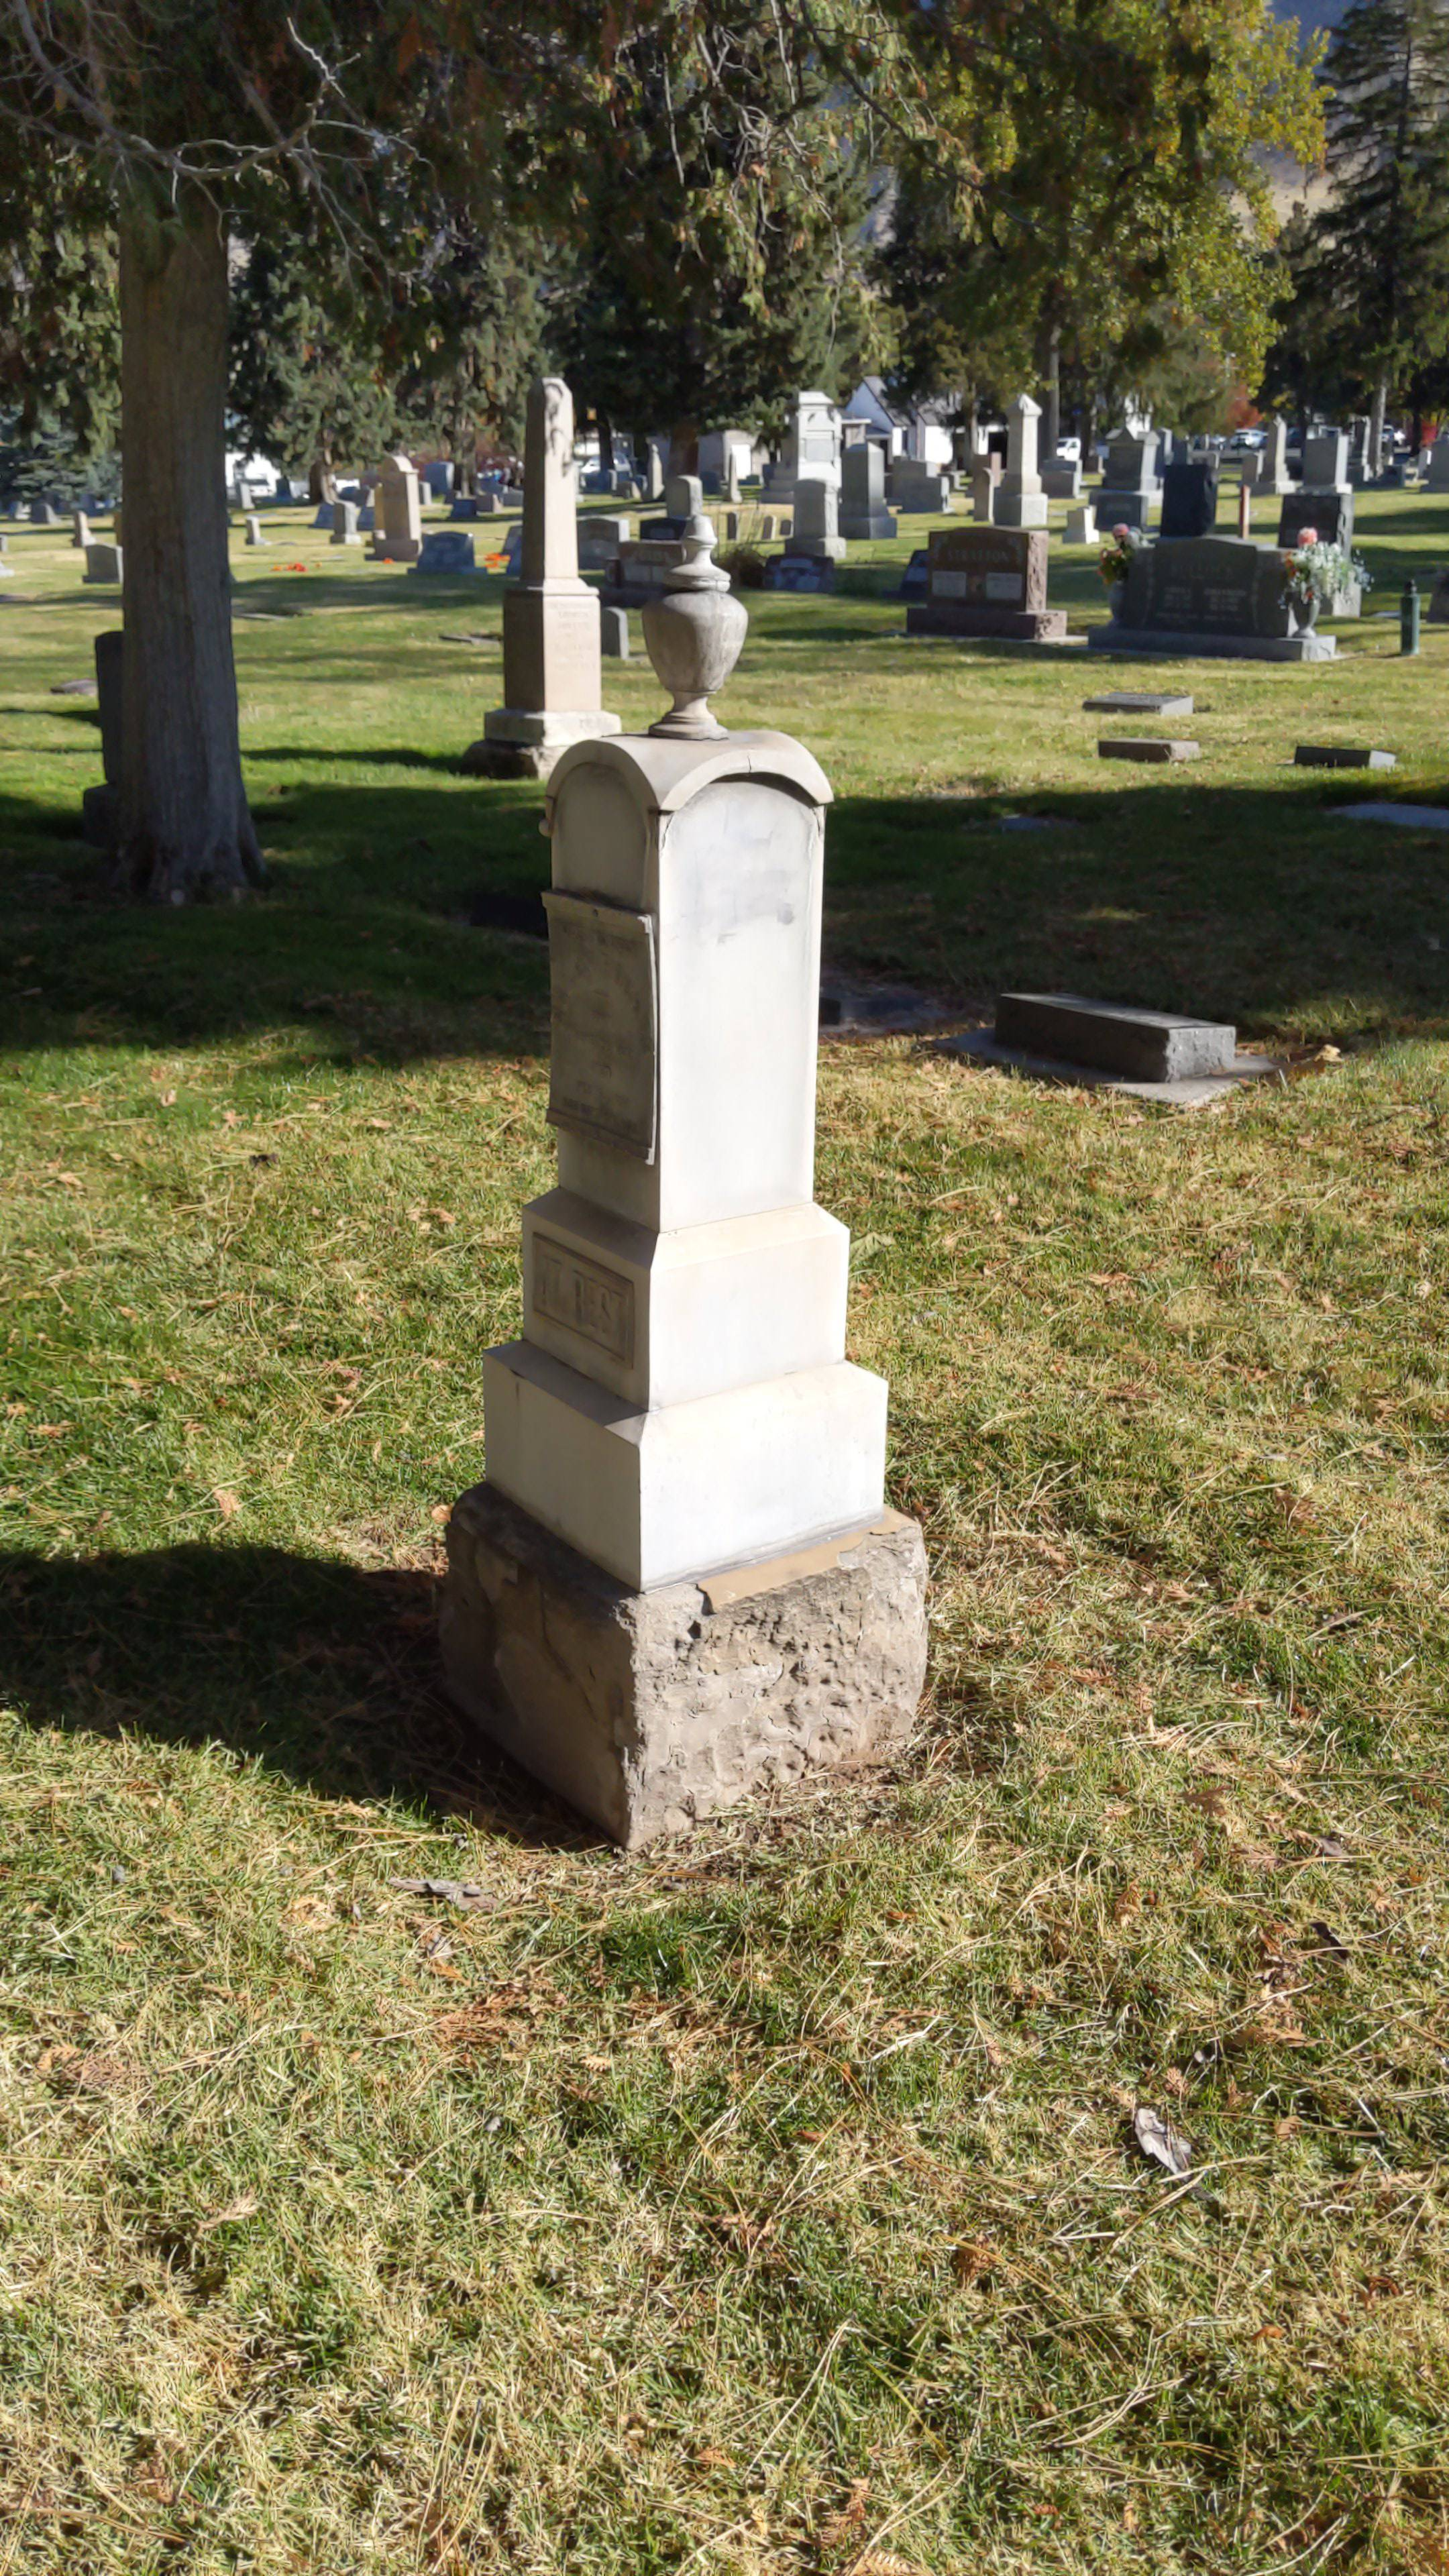obelisk: (478, 517, 883, 1582)
